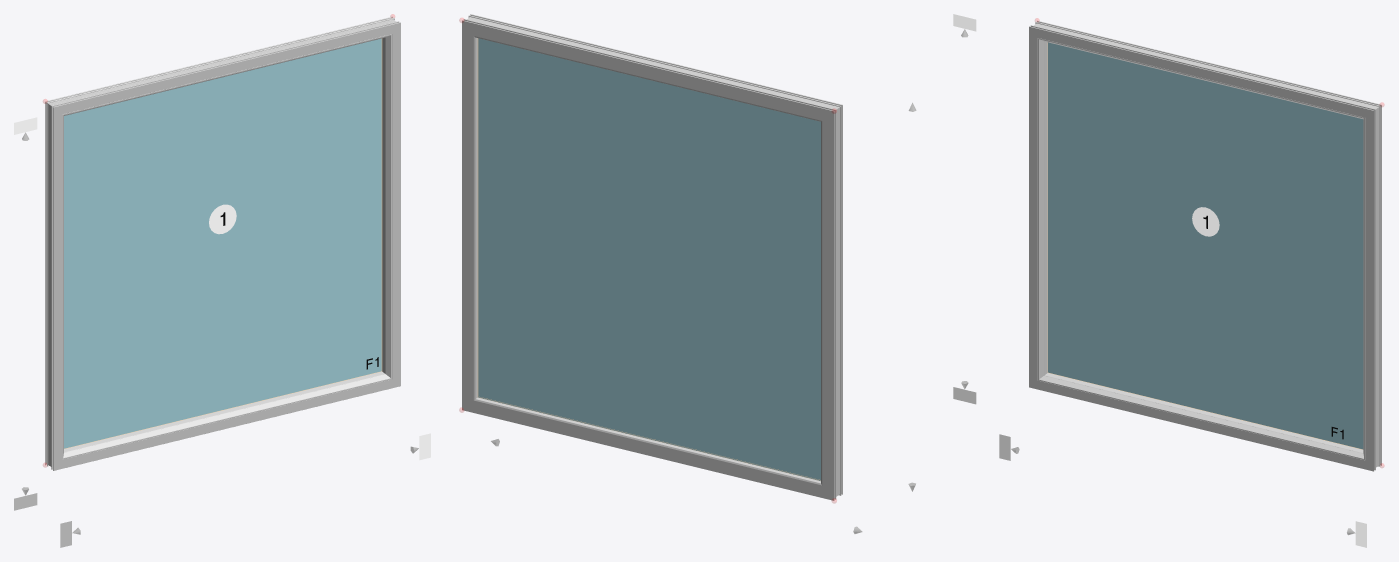
The picture shows the model from 3 angles, left to right: view 1: azimuth 30°, elevation 25°; view 2: azimuth 150°, elevation 25°; view 3: azimuth 330°, elevation 25°; orthographic projection. The views are drawn at different scales.
Visible parts, largest first — view 1: object 31, profile (×8), object 23, GlassIdLabel; view 2: object 31, profile (×4), object 23, object 21; view 3: object 31, profile (×8), GlassIdLabel.
Boxes of the visible parts, x1,y1,x2,y2 form: object 31: [64, 38, 381, 448]; profile (×8): [45, 16, 400, 470]; object 23: [381, 38, 382, 371]; GlassIdLabel: [209, 204, 236, 234]; object 31: [478, 38, 820, 480]; profile (×4): [462, 14, 842, 500]; object 23: [477, 38, 478, 396]; object 21: [478, 396, 820, 480]; object 31: [1048, 42, 1363, 449]; profile (×8): [1029, 20, 1381, 471]; GlassIdLabel: [1192, 207, 1219, 236].
Size of what is drawn, in the model's own units: 1800 by 1800 by 224.
